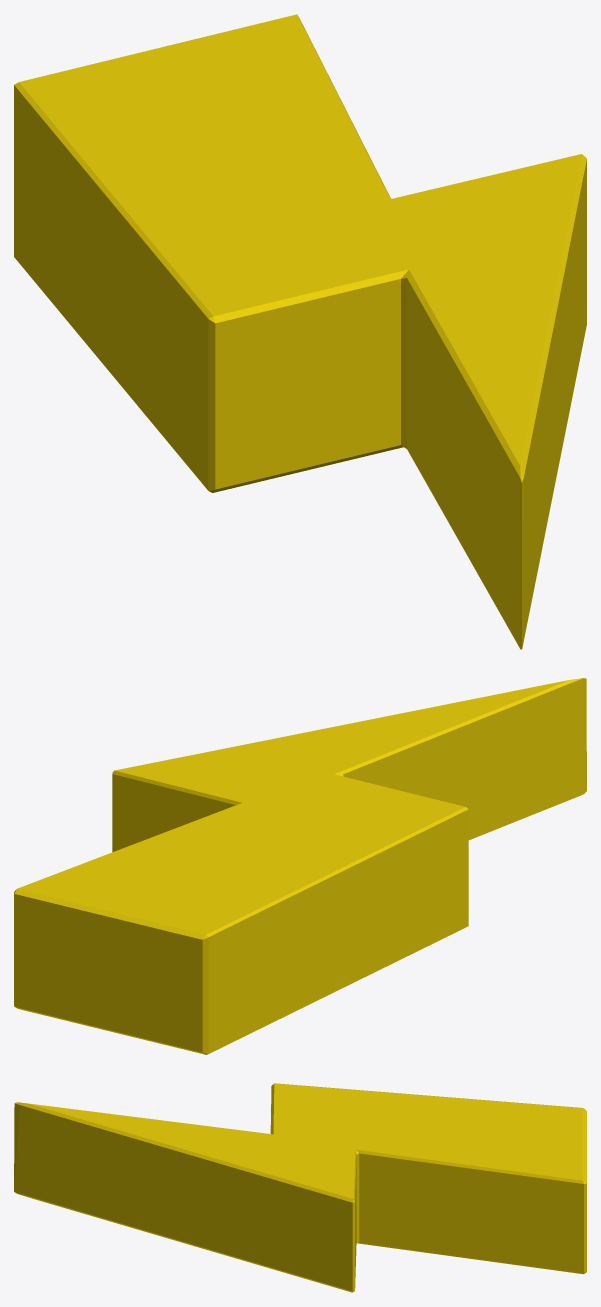
The model's file is Blitz_simple_lp.fbx.
3 renders of one model, top to bottom at view 1: azimuth 30°, elevation 25°; view 2: azimuth 150°, elevation 25°; view 3: azimuth 270°, elevation 25°, orthographic. The views are drawn at different scales.
Visible parts, largest first — view 1: path243.001; view 2: path243.001; view 3: path243.001.
Part boxes in pixels (<box>): path243.001: <box>14,14,586,649</box>; path243.001: <box>14,678,586,1054</box>; path243.001: <box>14,1083,586,1292</box>.
Size of the model in its own units: 4.03 by 1.5 by 8.28.
